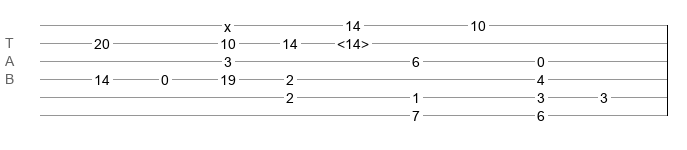0: (161, 72, 169, 82), (537, 54, 545, 64)
1: (412, 90, 420, 100)
10: (220, 36, 236, 46), (470, 18, 486, 28)
14: (94, 72, 110, 82), (282, 36, 298, 46), (345, 18, 361, 28)
19: (220, 72, 236, 82)
2: (286, 90, 294, 100), (286, 72, 294, 82)
20: (94, 36, 110, 46)
3: (224, 54, 232, 64), (537, 90, 545, 100), (600, 90, 608, 100)
4: (537, 72, 545, 82)
6: (412, 54, 420, 64), (537, 108, 545, 118)
7: (412, 108, 420, 118)
harmonic: (337, 36, 369, 46)
x: (224, 19, 231, 27)
